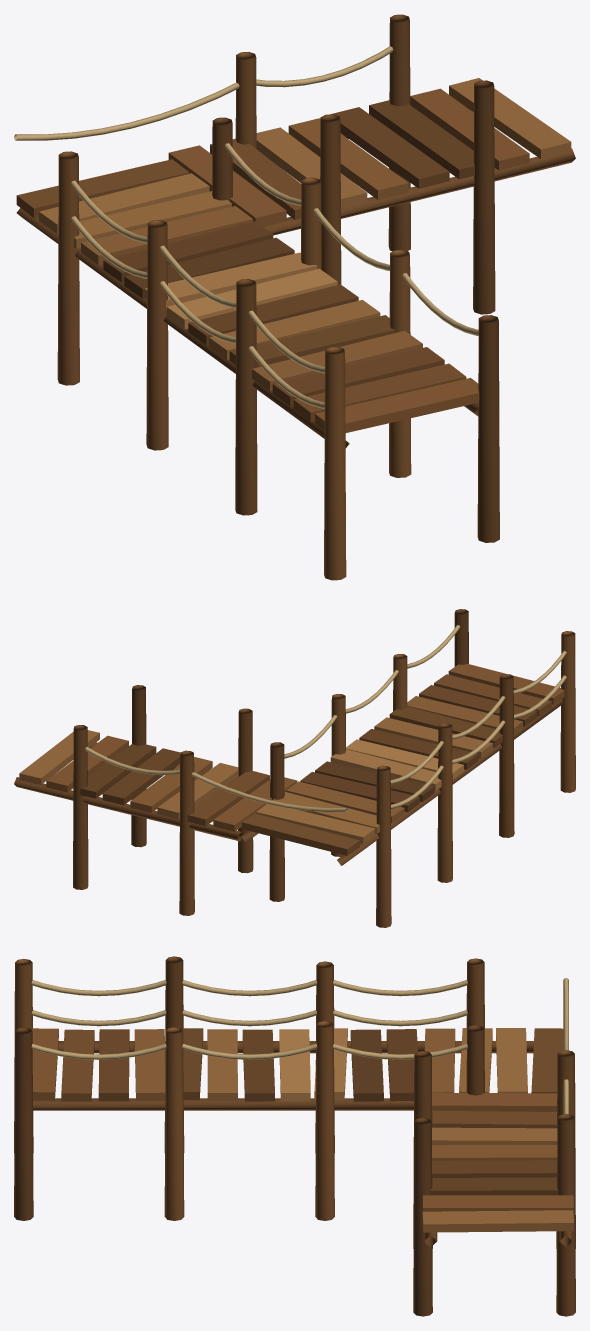
File: Pier_L.obj
3 views of the same model, one above another, from view 1: azimuth 30°, elevation 25°; view 2: azimuth 150°, elevation 25°; view 3: azimuth 270°, elevation 25° (orthographic). The views are drawn at different scales.
Parts seen in each view (by area): view 1: Pier_L; view 2: Pier_L; view 3: Pier_L.
Boxes of the visible parts, bbox=[...] form: Pier_L: bbox=[14, 14, 575, 580]; Pier_L: bbox=[14, 609, 575, 927]; Pier_L: bbox=[14, 956, 575, 1316].
Bounding box in the file's own units: 3.16 × 1.44 × 3.73.
1 material, 1 textured.
